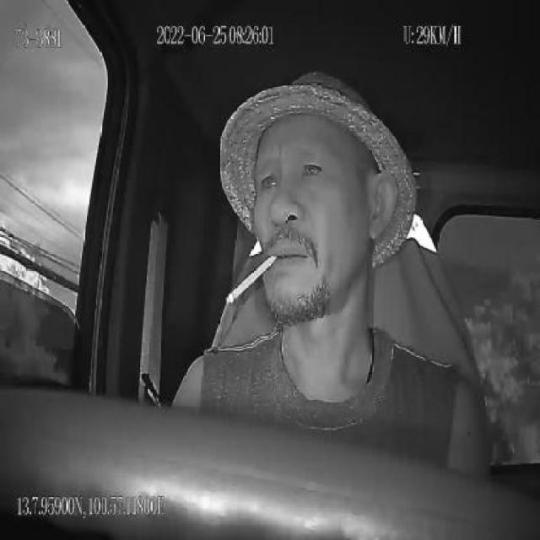smoking: (226, 254, 278, 312)
